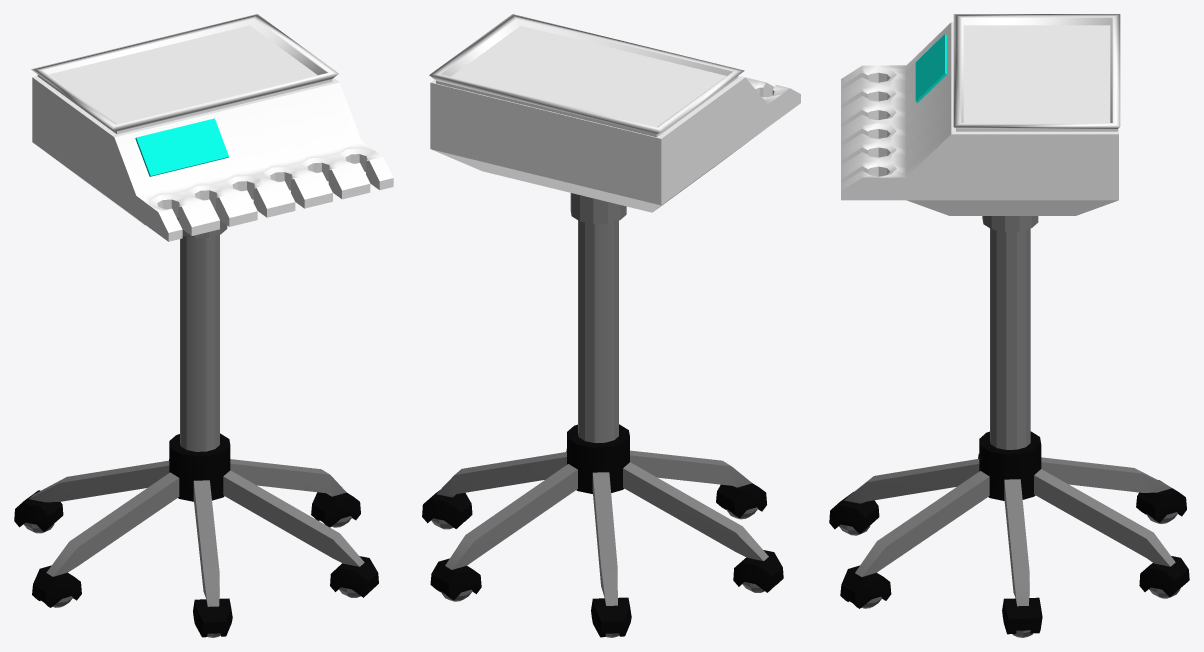
The model's file is EquipmaentTable.fbx.
3 views of the same model, side by side, from view 1: azimuth 30°, elevation 25°; view 2: azimuth 150°, elevation 25°; view 3: azimuth 270°, elevation 25° (orthographic). The views are drawn at different scales.
Visible parts, largest first — view 1: group9, pCube7, pCube9, pCube8; view 2: group9, pCube7, pCube9; view 3: group9, pCube7, pCube9, pCube8.
Boxes of the visible parts, <box> form: group9: <box>14,208,378,637</box>; pCube7: <box>32,76,393,241</box>; pCube9: <box>31,14,338,134</box>; pCube8: <box>135,118,228,176</box>; group9: <box>422,193,783,637</box>; pCube7: <box>430,75,800,212</box>; pCube9: <box>429,14,744,137</box>; group9: <box>829,216,1189,637</box>; pCube7: <box>841,22,1118,215</box>; pCube9: <box>953,14,1120,131</box>; pCube8: <box>915,34,946,102</box>.
Bounding box in the file's own units: 72.69 × 103 × 67.76.
